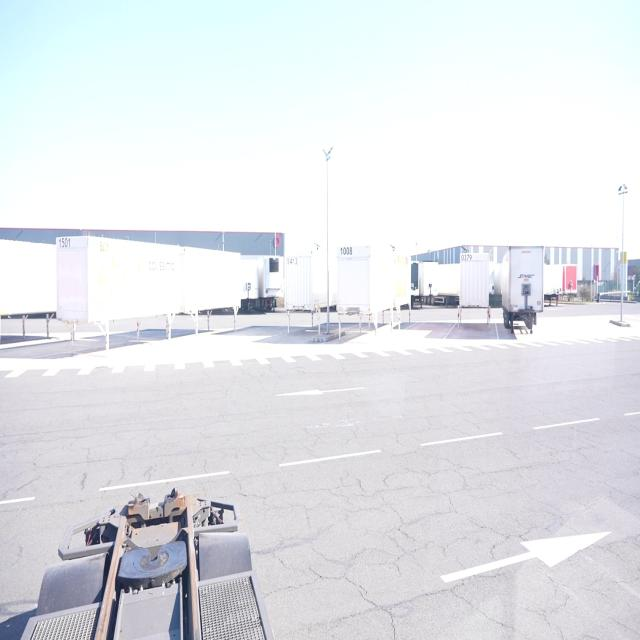Code: (54, 234, 75, 253), (338, 242, 357, 262), (462, 248, 477, 265), (285, 254, 298, 266)
